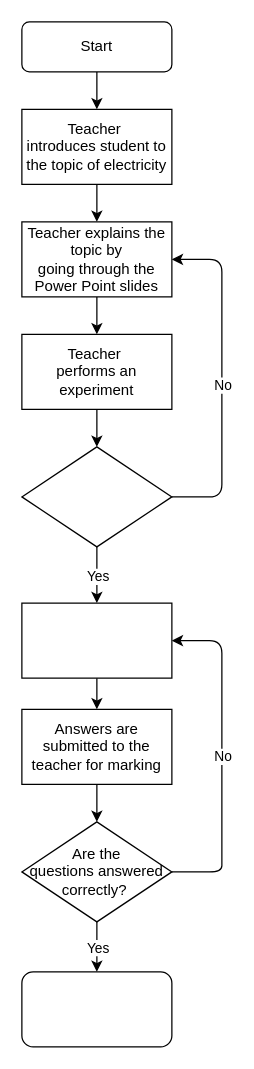
The diagram is 254 pixels wide and 1069 high, and some of its shapes have lost their labels. The centre of each missing label's shape, as x and y in pixels:
"Did the students understand?" belongs at point 96,496.
"End" belongs at point 96,1009.
"Students practice exam questions on their own" belongs at point 96,640.
